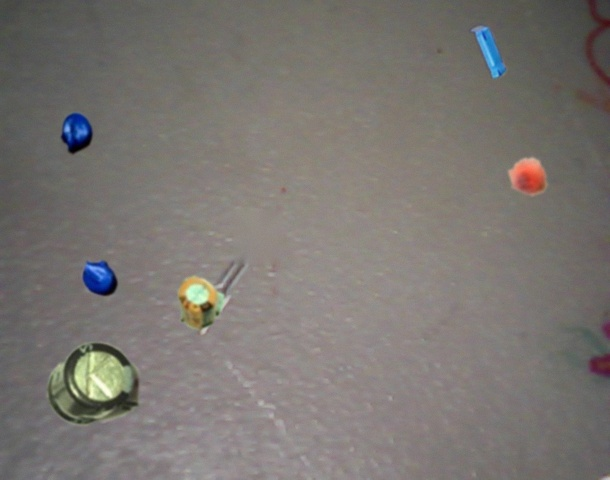capacitor: (48, 343, 139, 425), (178, 276, 225, 330), (470, 25, 506, 79), (508, 158, 547, 196), (61, 112, 93, 155), (82, 260, 118, 297)
